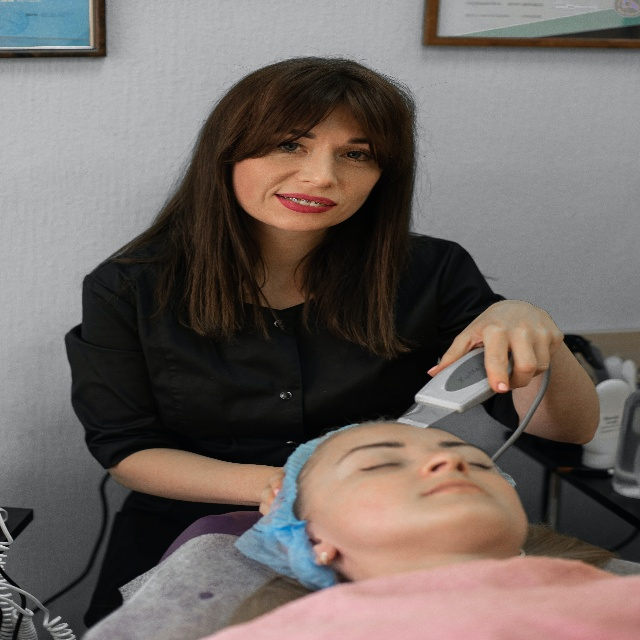Sin_guantes: (425, 299, 566, 393), (259, 464, 286, 517)
